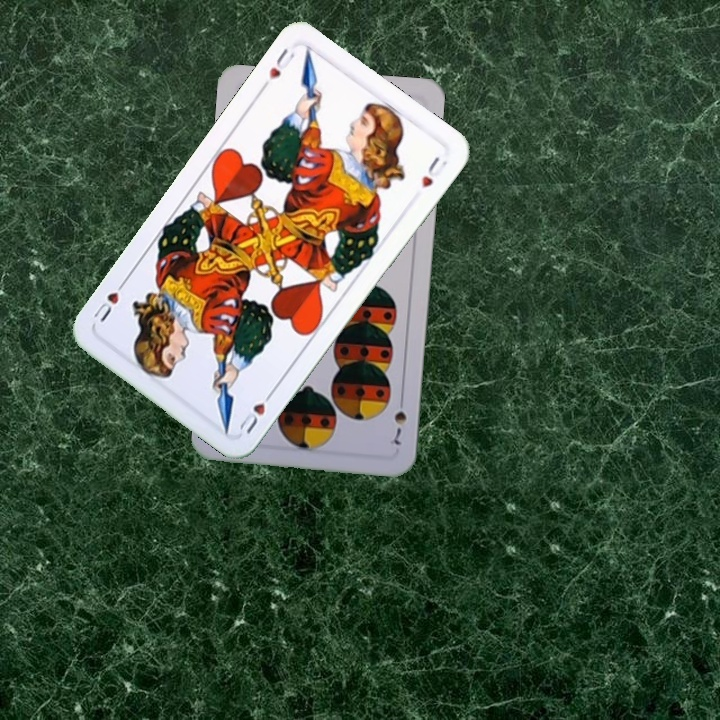HU: (235, 385, 278, 437), (264, 44, 297, 82)
S7: (389, 392, 409, 450)
